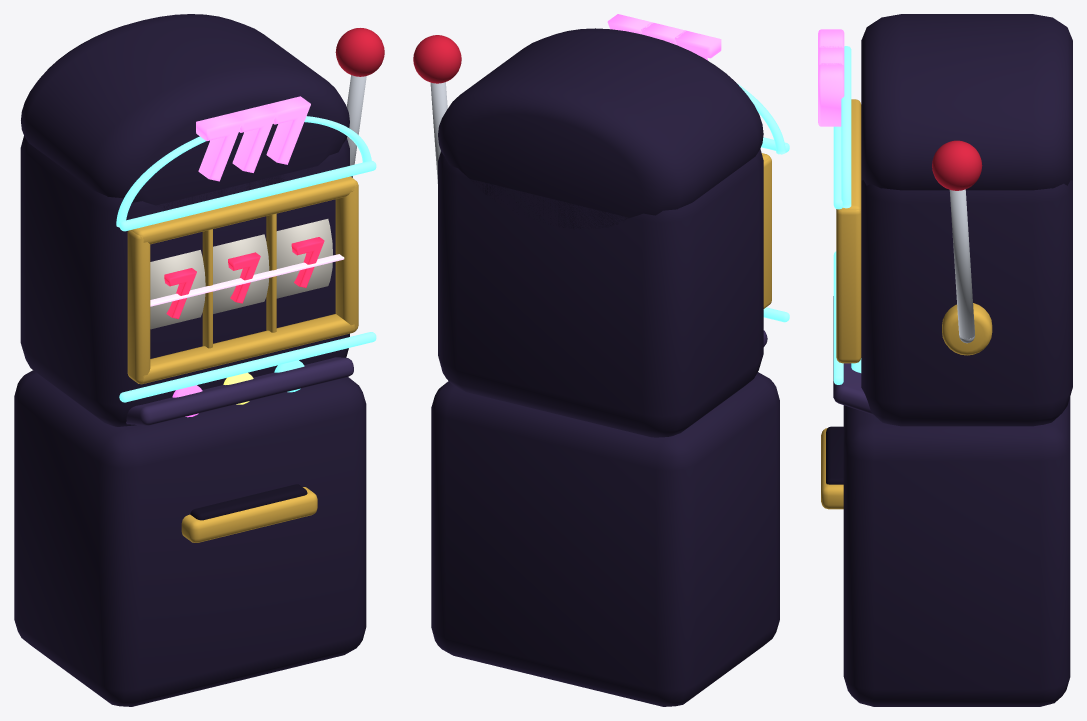
File: casino_slot_machine.fbx
The picture shows the model from 3 angles, left to right: view 1: azimuth 30°, elevation 25°; view 2: azimuth 150°, elevation 25°; view 3: azimuth 270°, elevation 25°; orthographic projection. The views are drawn at different scales.
Parts seen in each view (by area): view 1: casino_slot_machine; view 2: casino_slot_machine; view 3: casino_slot_machine.
Part boxes in pixels (bbox=[...]): casino_slot_machine: bbox=[14, 14, 384, 706]; casino_slot_machine: bbox=[413, 14, 789, 706]; casino_slot_machine: bbox=[818, 14, 1072, 706].
Size of the model in its own units: 0.76 by 1.35 by 0.506.
